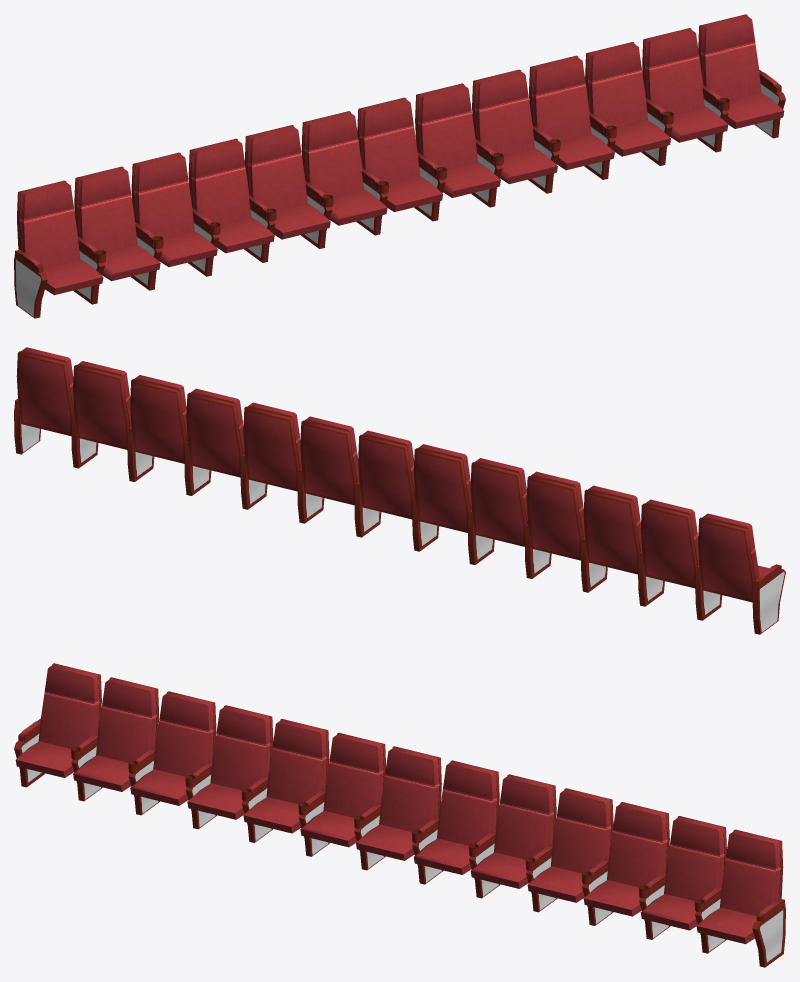
File: CinemaChair02a.FBX
3 renders of one model, top to bottom at view 1: azimuth 30°, elevation 25°; view 2: azimuth 150°, elevation 25°; view 3: azimuth 330°, elevation 25°, orthographic.
Visible parts, largest first — view 1: CinemaChair02a; view 2: CinemaChair02a; view 3: CinemaChair02a.
Boxes of the visible parts, x1=… form: CinemaChair02a: x1=14, y1=14, x2=785, y2=318; CinemaChair02a: x1=14, y1=347, x2=785, y2=634; CinemaChair02a: x1=14, y1=663, x2=785, y2=967.
Bounding box in the file's own units: 1078 × 150 × 95.9.
